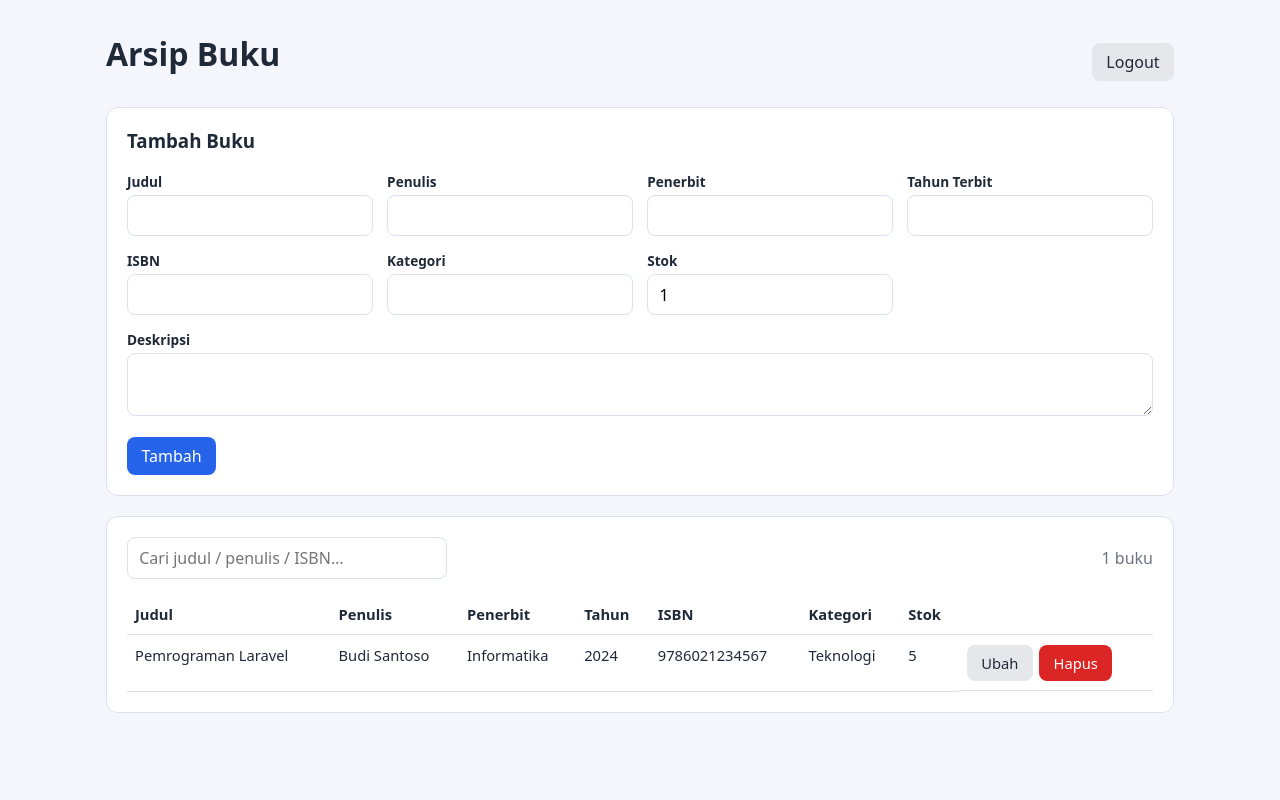
BukuView.vue (CRUD arsip buku) › DELETE: menampilkan pesan galat jika hapus gagal
The width and height of the screenshot is (1280, 800).
Click the button with class "danger": point(1076, 663) [1039,645,1112,681]
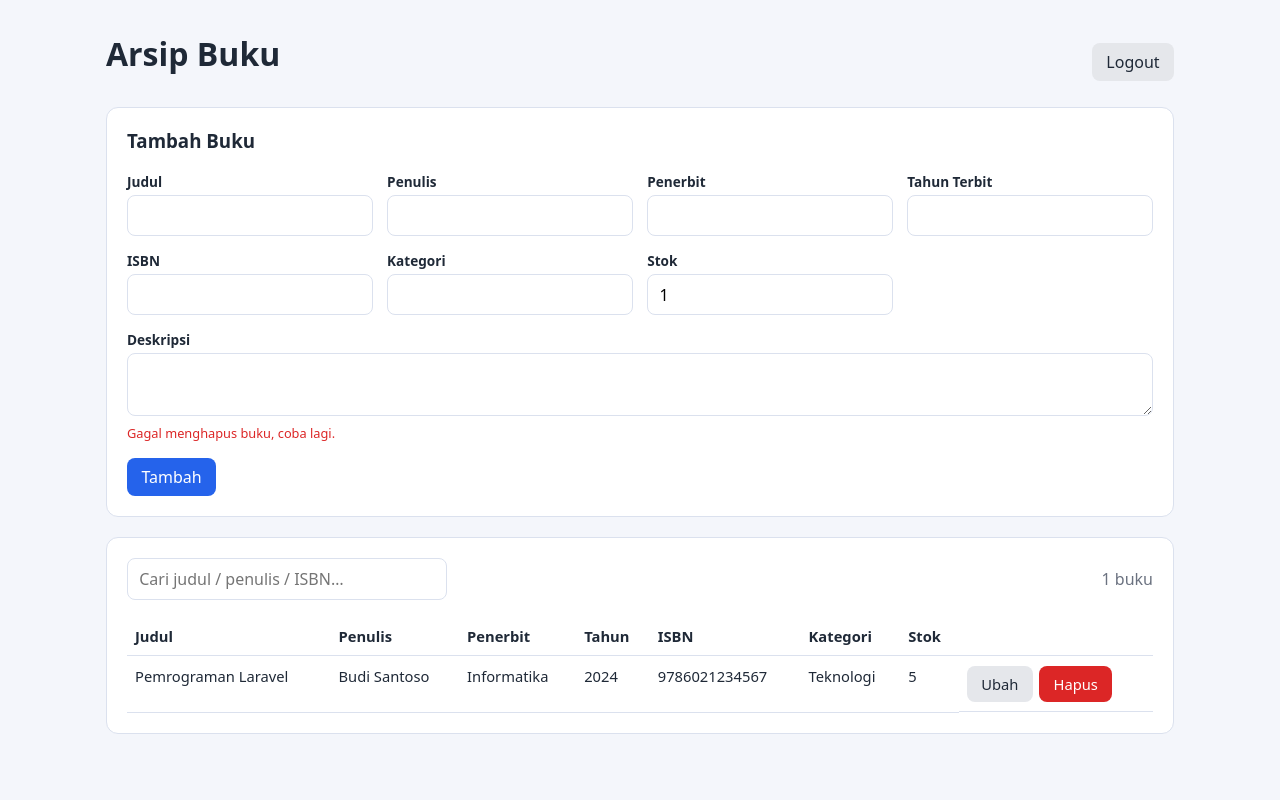
Result: the message "Gagal menghapus buku, coba lagi." is shown at [127,424,335,442]
